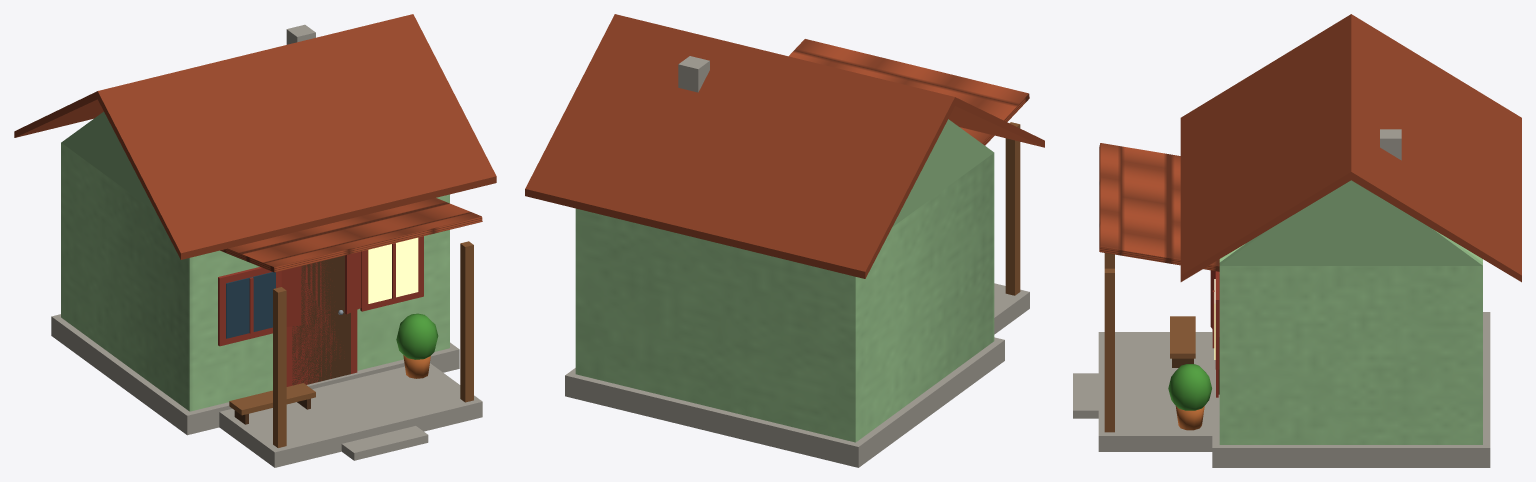
Rendered from prop_rumah_hijau.glb.
The picture shows the model from 3 angles, left to right: view 1: azimuth 30°, elevation 25°; view 2: azimuth 150°, elevation 25°; view 3: azimuth 270°, elevation 25°; orthographic projection. The views are drawn at different scales.
Parts seen in each view (by area): view 1: rumah_hijau; view 2: rumah_hijau; view 3: rumah_hijau.
Boxes of the visible parts, box(x1,y1,x2,y2) form: rumah_hijau: box(14, 14, 496, 467); rumah_hijau: box(525, 14, 1044, 467); rumah_hijau: box(1073, 14, 1521, 467).
Size of the model in its own units: 5.1 by 4.63 by 6.13.
Materials: 11 (2 with a texture image).
